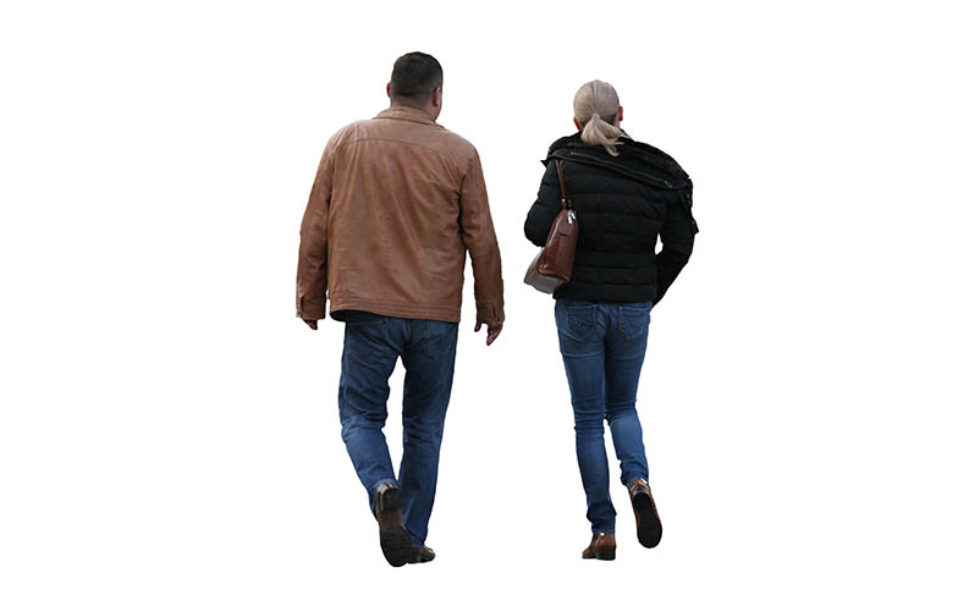NOTSAFE: (332, 47, 462, 355), (551, 75, 654, 326)
